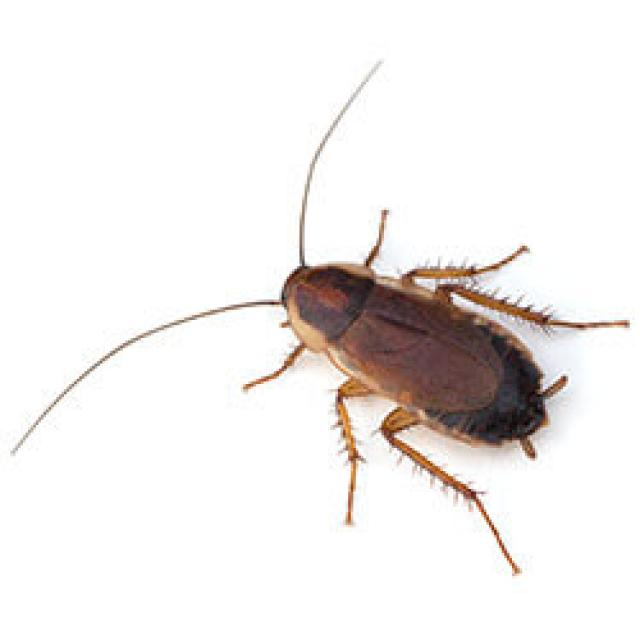Cockroach: (200, 154, 571, 581)
